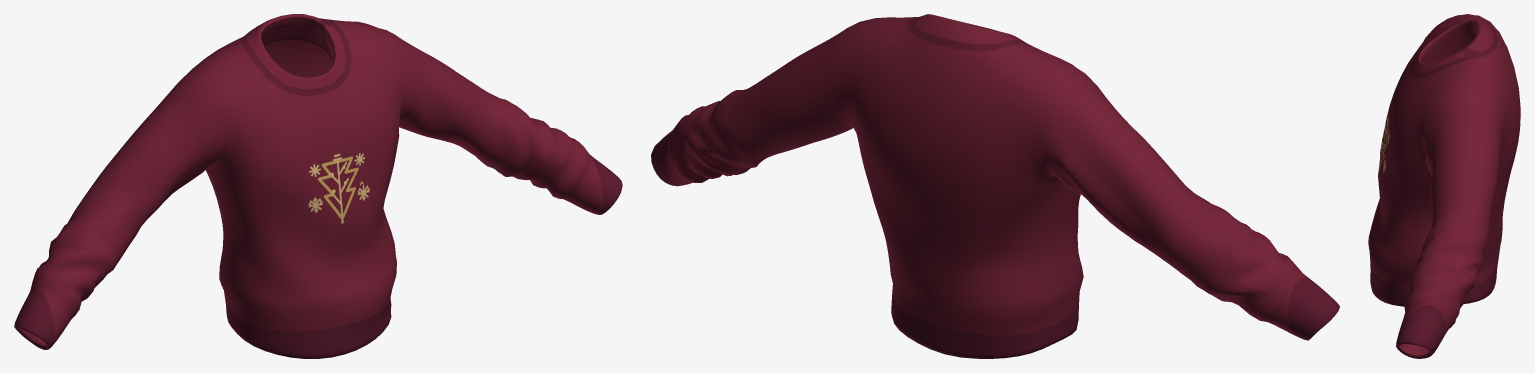
Rendered from display.glb.
3 views of the same model, side by side, from view 1: azimuth 30°, elevation 25°; view 2: azimuth 150°, elevation 25°; view 3: azimuth 270°, elevation 25° (orthographic). The views are drawn at different scales.
Visible parts, largest first — view 1: Sweater_low; view 2: Sweater_low; view 3: Sweater_low.
Boxes of the visible parts, left/top/right/bottom form: Sweater_low: left=14, top=14, right=622, bottom=358; Sweater_low: left=651, top=14, right=1339, bottom=358; Sweater_low: left=1368, top=14, right=1520, bottom=358.
Size of the model in its own units: 5.53 by 2.58 by 1.37.
Materials: 1 (1 with a texture image).
